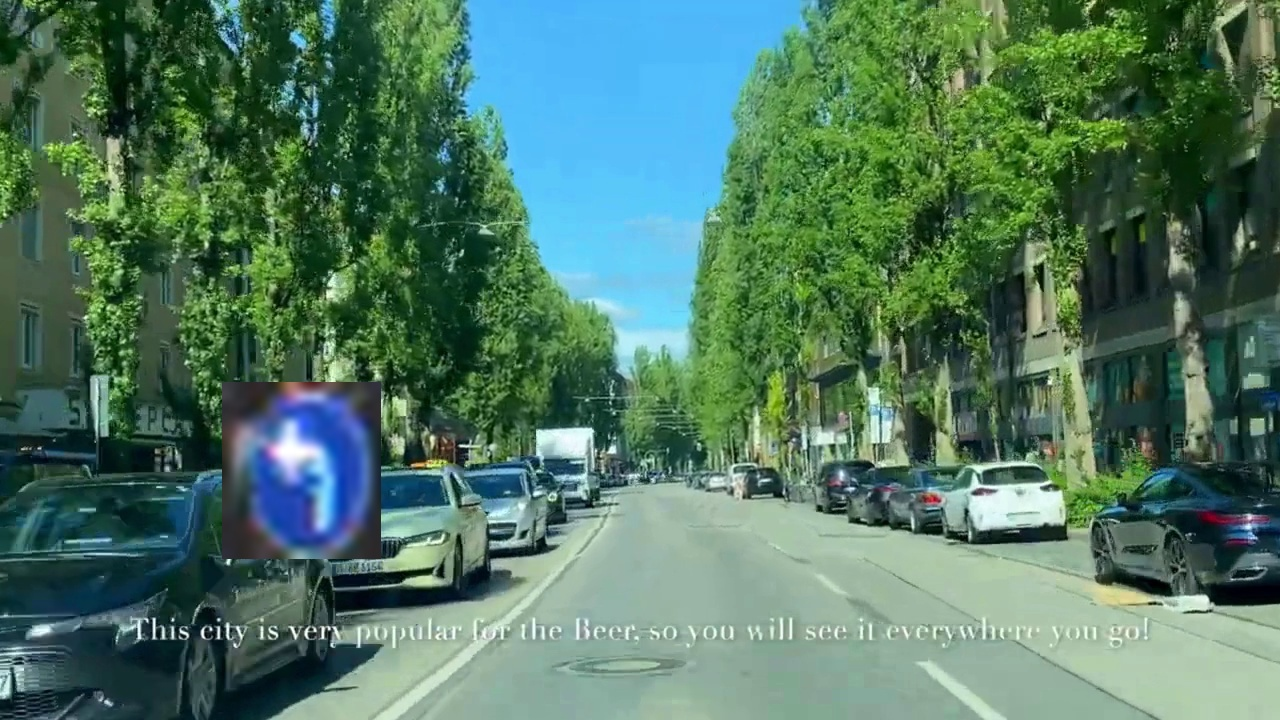Turn left: (222, 382, 381, 559)
